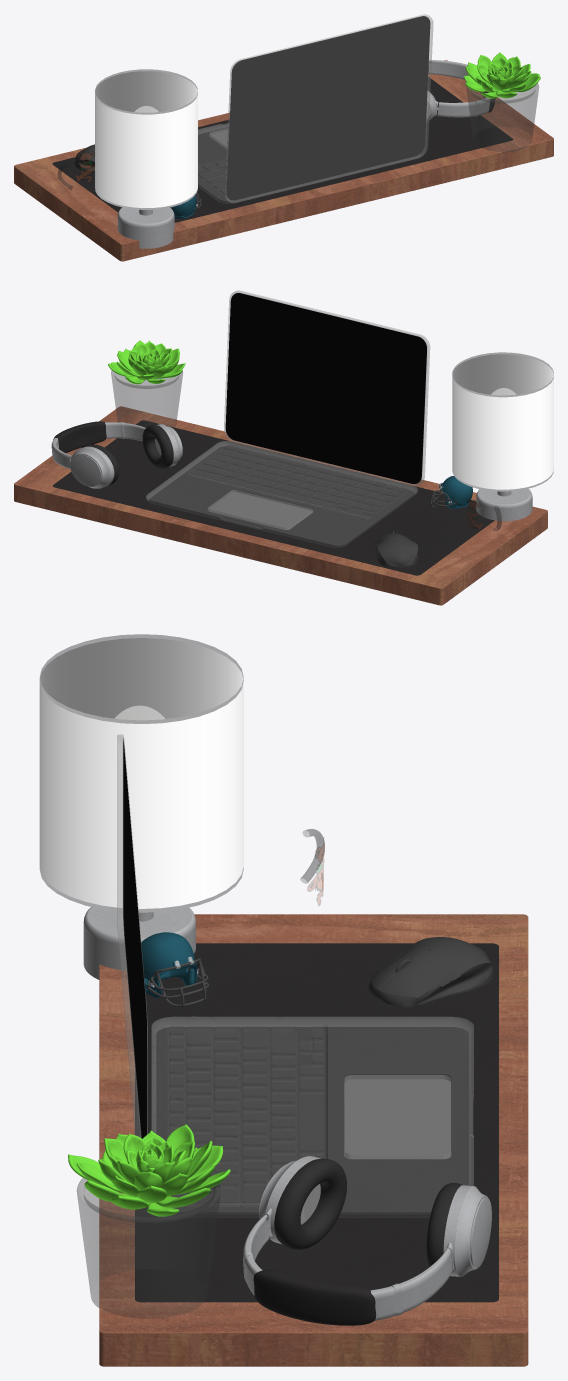
Rendered from Desk_05_compressed-v1.glb.
3 views of the same model, one above another, from view 1: azimuth 30°, elevation 25°; view 2: azimuth 150°, elevation 25°; view 3: azimuth 270°, elevation 25° (orthographic). The views are drawn at different scales.
Parts seen in each view (by area): view 1: object_10, object_1.001, object_70, Cylinder.001, object_1, object_13, object_16, Helmet.001, object_24; view 2: object_1.001, object_1, object_10, object_70, Cylinder.001, object_13, object_3, Helmet.001, object_16; view 3: object_1, object_10, object_70, Cylinder.001, object_1.001, object_13, object_3, Helmet.001, object_16.
Boxes of the visible parts, <box> form: object_10: <box>198,14,538,203</box>; object_1.001: <box>74,16,540,200</box>; object_70: <box>14,60,553,261</box>; Cylinder.001: <box>95,71,197,207</box>; object_1: <box>52,77,513,222</box>; object_13: <box>95,60,489,248</box>; object_16: <box>95,91,436,209</box>; Helmet.001: <box>170,193,201,218</box>; object_24: <box>75,152,94,182</box>; object_1.001: <box>108,293,426,567</box>; object_1: <box>52,420,494,575</box>; object_10: <box>85,290,430,547</box>; object_70: <box>14,406,547,605</box>; Cylinder.001: <box>452,354,553,489</box>; object_13: <box>51,352,553,521</box>; object_3: <box>82,425,173,486</box>; Helmet.001: <box>430,476,472,508</box>; object_16: <box>84,425,553,491</box>; object_1: <box>135,943,498,1325</box>; object_10: <box>77,734,473,1318</box>; object_70: <box>99,914,528,1366</box>; Cylinder.001: <box>39,638,243,908</box>; object_1.001: <box>68,739,494,1216</box>; object_13: <box>39,634,491,1320</box>; object_3: <box>274,1158,462,1266</box>; Helmet.001: <box>141,932,208,1006</box>; object_16: <box>39,867,466,1276</box>.
Bounding box in the file's own units: 6.56 × 2.38 × 3.17.
Materials: 13 (12 with a texture image).
